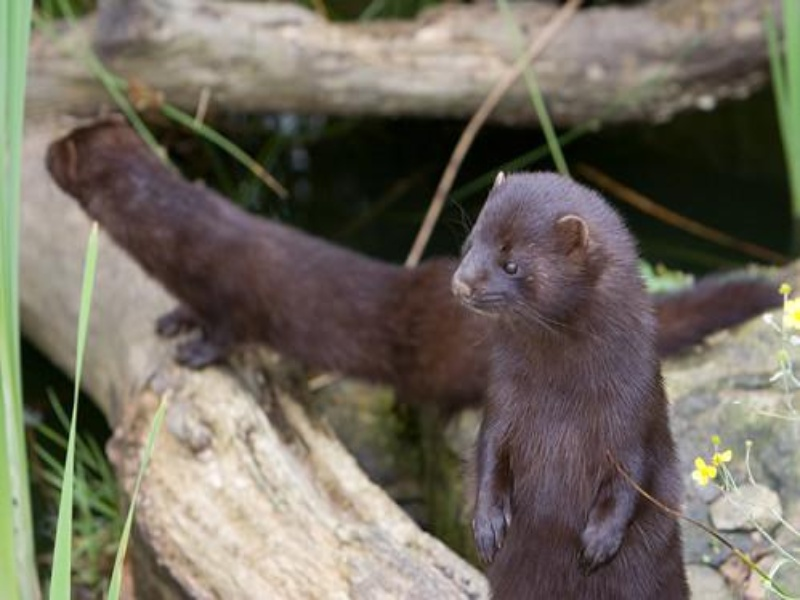minkish: (42, 109, 786, 434), (446, 165, 698, 600)
